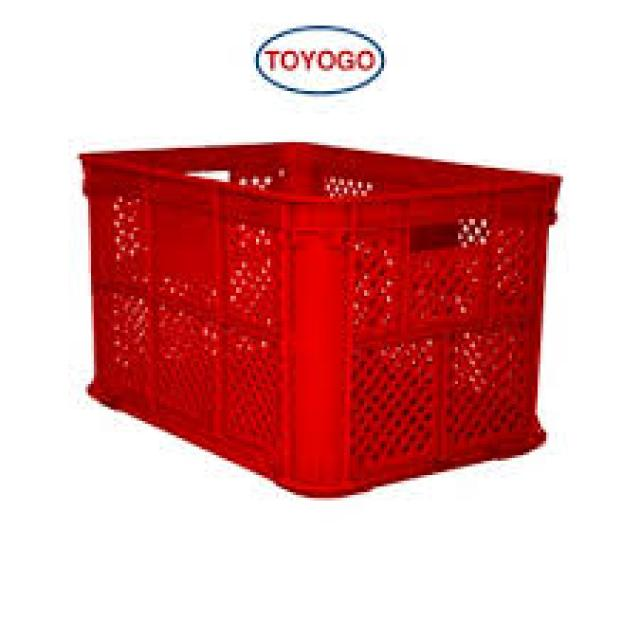basket: (60, 128, 565, 509)
